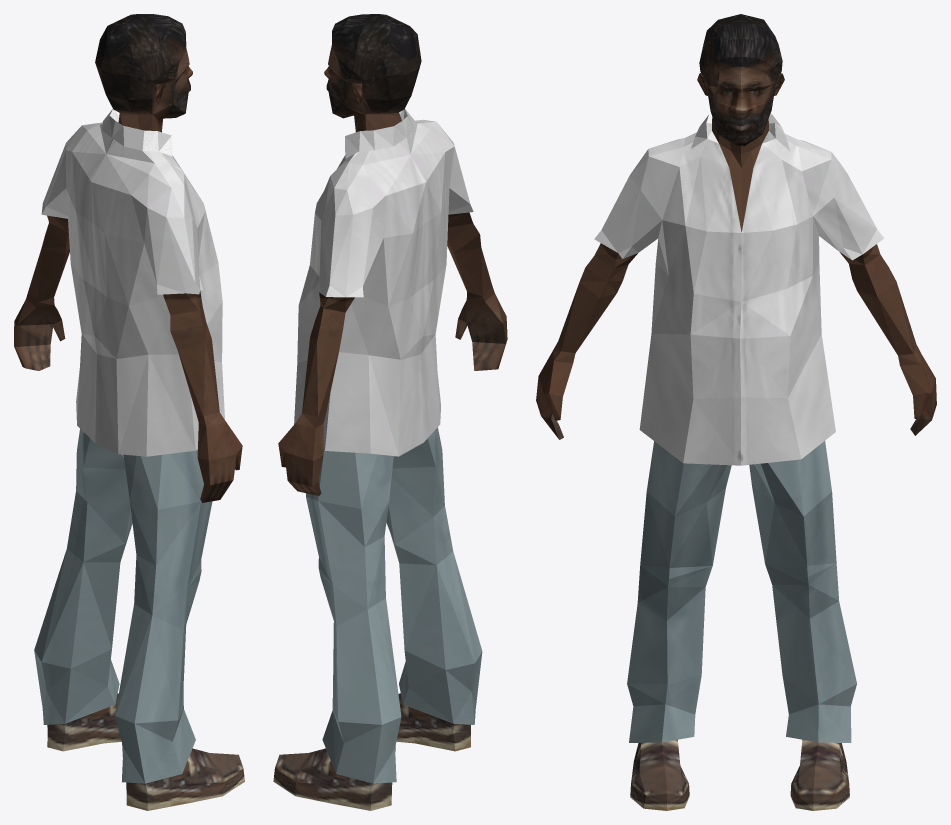
File: sbmori.obj
3 renders of one model, left to right at view 1: azimuth 30°, elevation 25°; view 2: azimuth 150°, elevation 25°; view 3: azimuth 270°, elevation 25°, orthographic. The views are drawn at different scales.
Parts seen in each view (by area): view 1: _Pelvis; view 2: _Pelvis; view 3: _Pelvis.
Boxes of the visible parts, x1=… form: _Pelvis: x1=14, y1=14, x2=244, y2=810; _Pelvis: x1=273, y1=14, x2=507, y2=810; _Pelvis: x1=536, y1=14, x2=936, y2=810.
Size of the model in its own units: 0.3504 by 1.9 by 0.902.
1 material, 1 textured.
